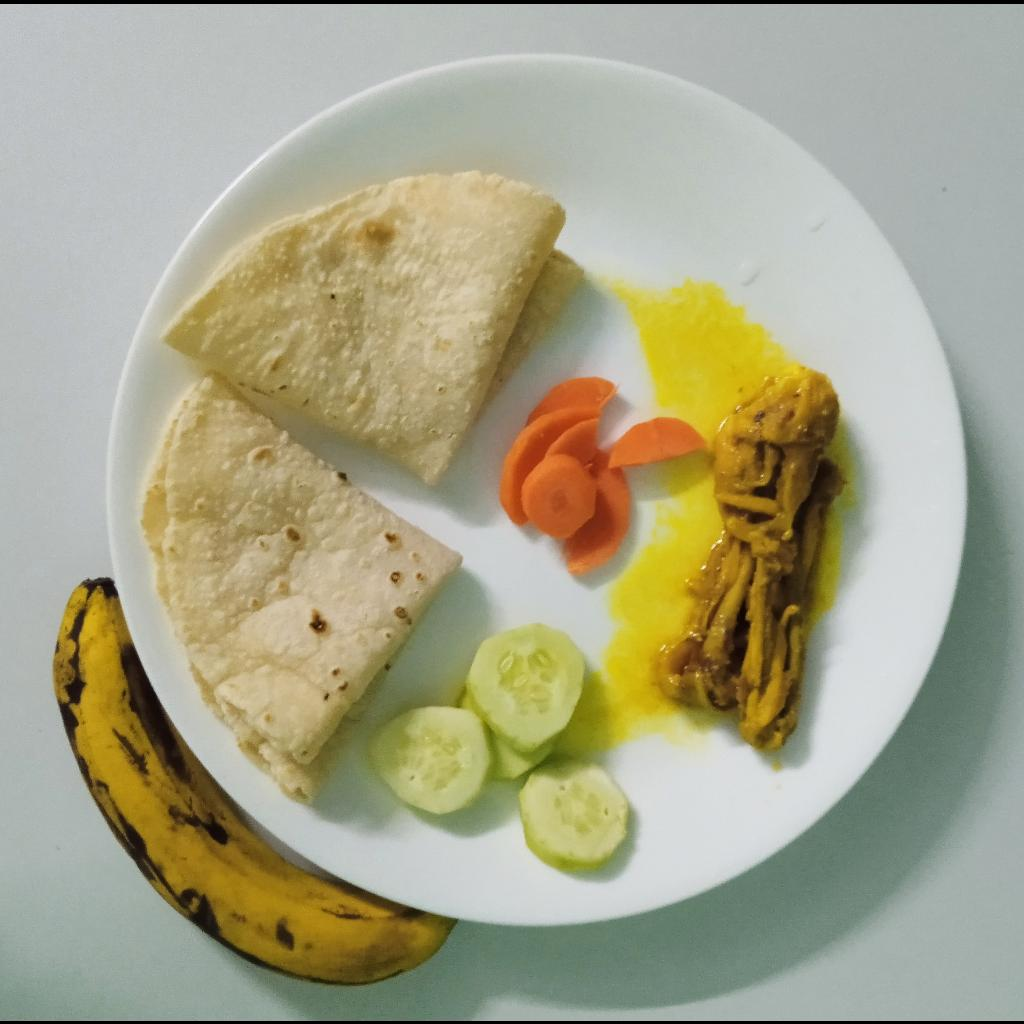banana: (51, 579, 456, 989)
carrot: (499, 377, 709, 574)
chicken: (658, 365, 848, 752)
cucumber: (376, 621, 633, 871)
ruti: (143, 372, 460, 805), (161, 172, 582, 490)
